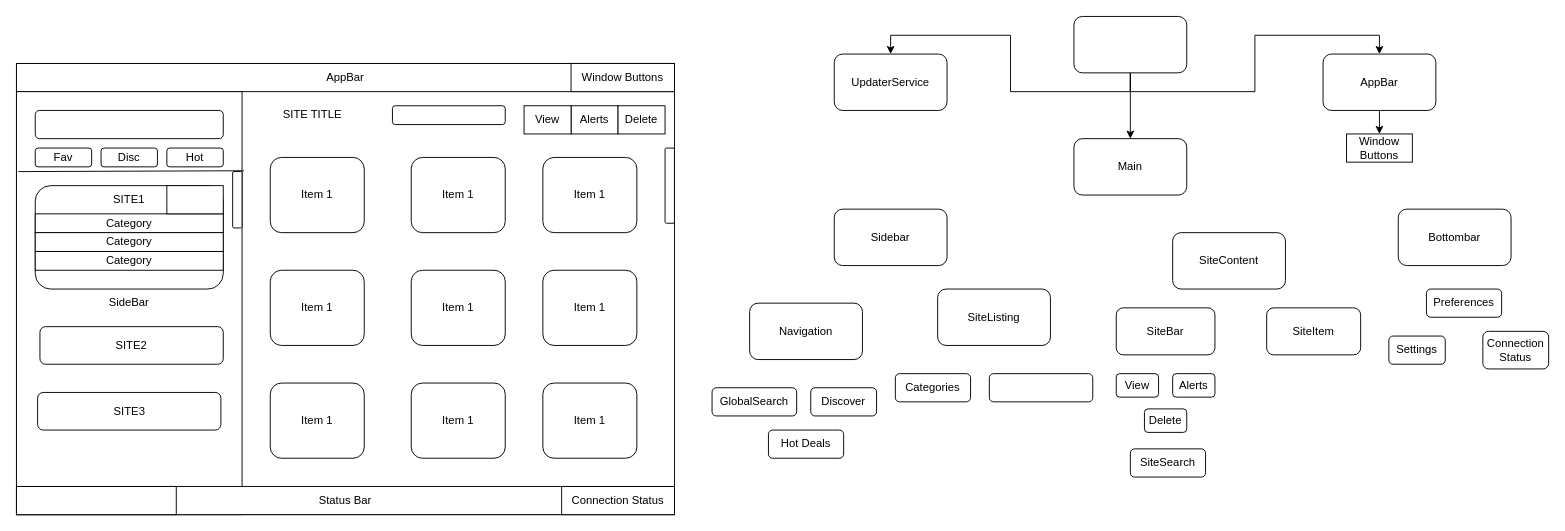
The diagram is 1565 pixels wide and 531 high, and some of its shapes have lost their labels. The shapes that lost their labels are listed below. From the top down, each one's centre as x and y in pixels, then its label:
pixel 1130 44: App
pixel 128 124: Search
pixel 448 115: Specific Search
pixel 194 199: collapse
pixel 1040 387: Collapse Button
pixel 96 500: Settings, Preferences, Alerts
